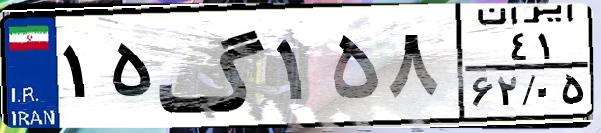0: (535, 70, 560, 125)
1: (270, 28, 330, 110), (57, 26, 110, 100), (537, 27, 568, 80)
2: (495, 70, 520, 125)
4: (508, 27, 537, 80)
5: (330, 28, 385, 110), (110, 28, 156, 98), (560, 70, 590, 125)
6: (470, 70, 495, 125)
8: (385, 28, 445, 110)
گ: (156, 12, 270, 120)
